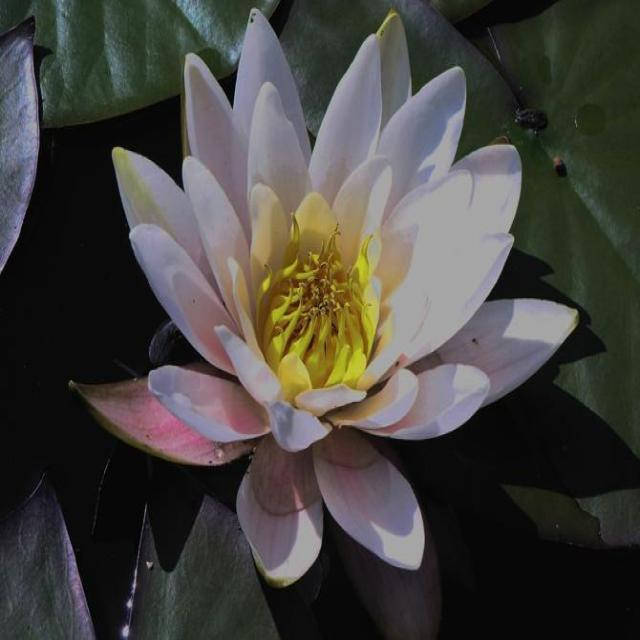rose: (64, 0, 588, 636)
